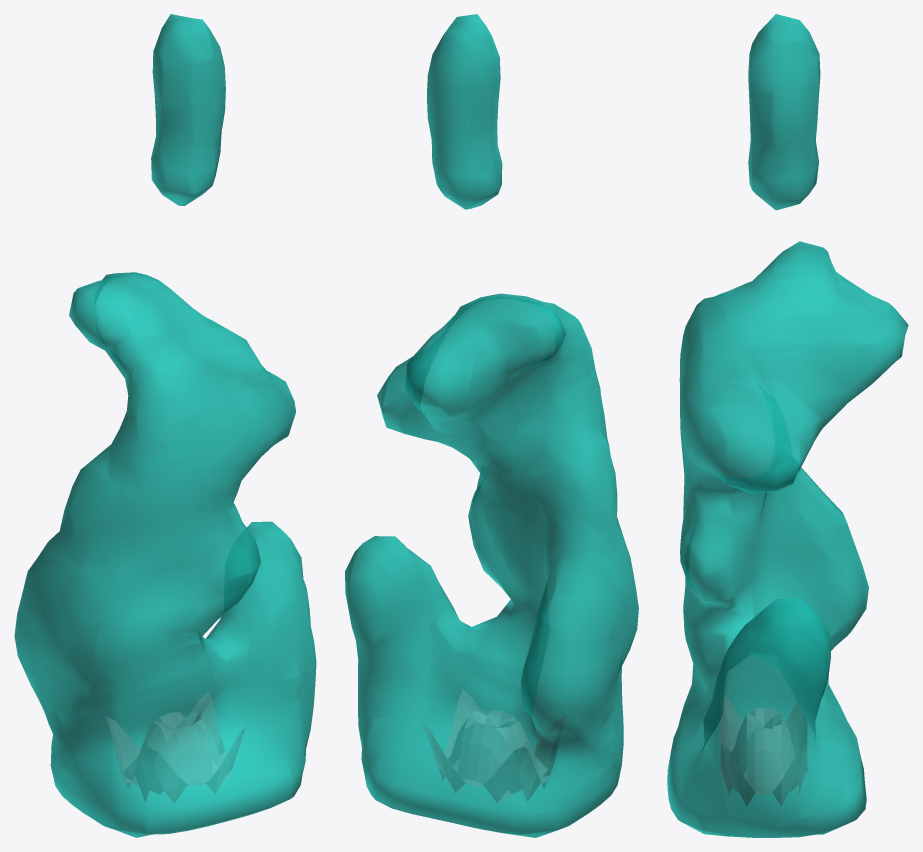
3 views of the same model, side by side, from view 1: azimuth 30°, elevation 25°; view 2: azimuth 150°, elevation 25°; view 3: azimuth 270°, elevation 25° (orthographic).
Visible parts, largest first — view 1: Liquid_Domain, グリッド; view 2: Liquid_Domain, グリッド; view 3: Liquid_Domain, グリッド.
Boxes of the visible parts, x1=… form: Liquid_Domain: x1=14, y1=14, x2=316, y2=837; グリッド: x1=106, y1=692, x2=245, y2=803; Liquid_Domain: x1=345, y1=14, x2=638, y2=837; グリッド: x1=421, y1=690, x2=566, y2=802; Liquid_Domain: x1=667, y1=14, x2=908, y2=837; グリッド: x1=721, y1=696, x2=806, y2=805.
Bounding box in the file's own units: 1.07 × 3.03 × 0.8356.
